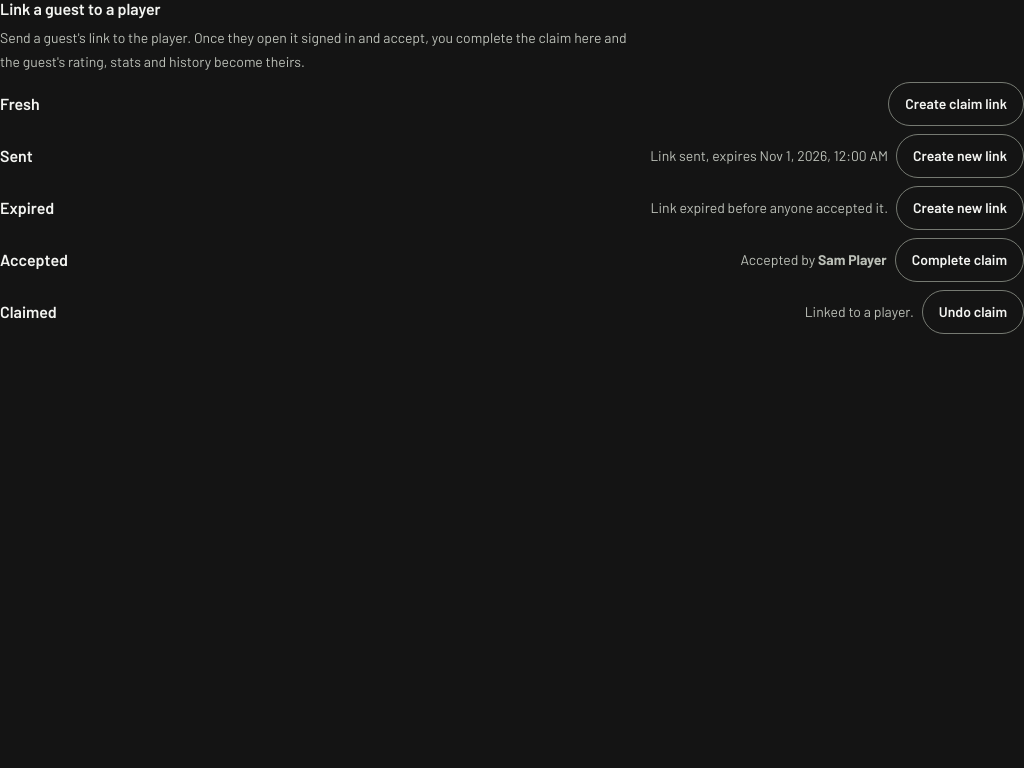
GuestClaims › completes an accepted claim after confirming who accepted, and refreshes the squad
Click the button "Complete claim" at (959, 260), box [895,238,1023,282]
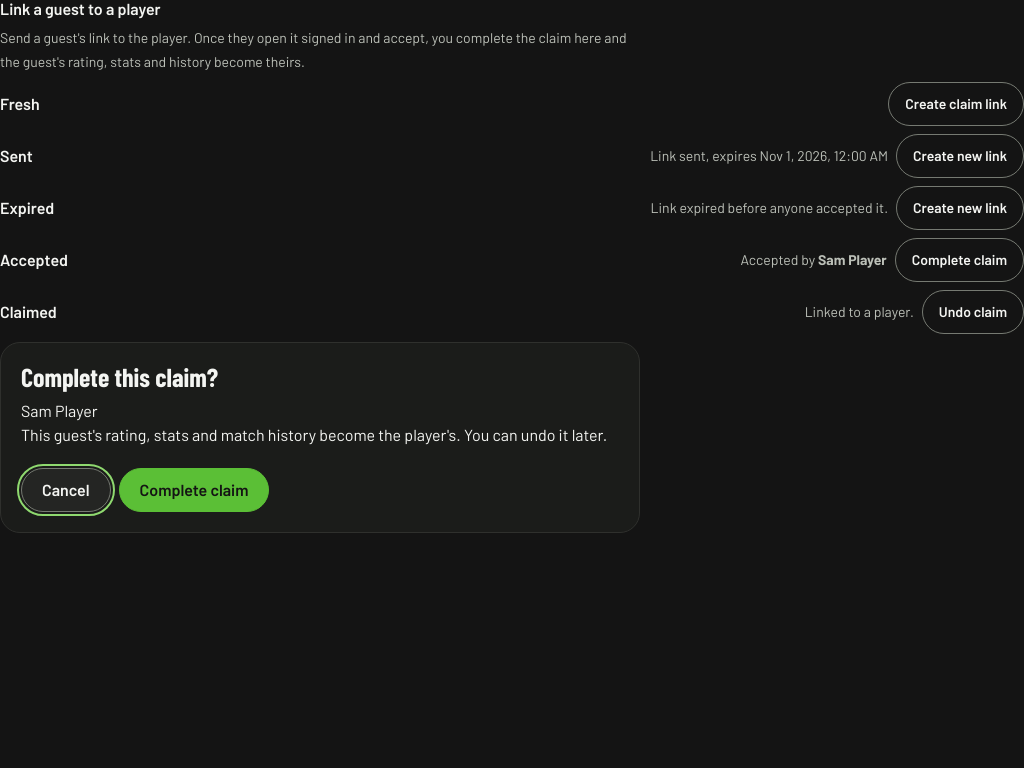
Now the dialog "Complete this claim?" shows "Sam Player", box [21,401,98,420]
Click the button "Complete claim" below "Complete this claim?" at (194, 490), box [119,468,270,512]
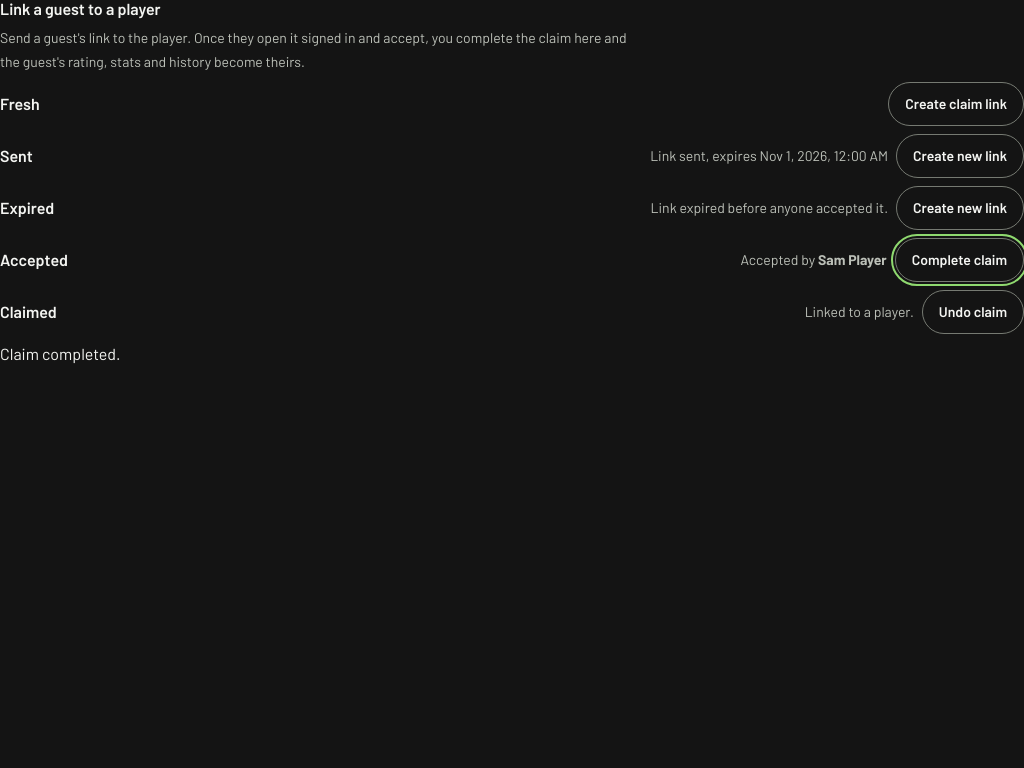
Now the text "Claim completed." is shown, box [0,344,120,363]
